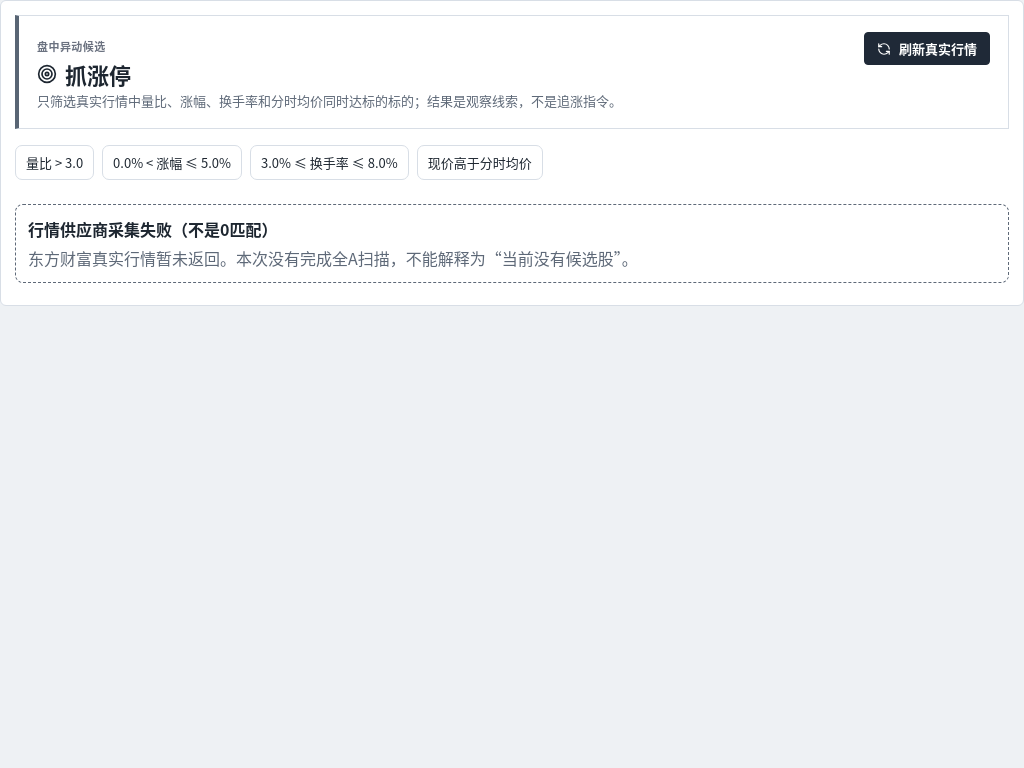
Test: 抓涨停 › 初载只GET缓存、数值列可排序，显式刷新使用POST并区分数据缺口与零匹配
This screenshot has width=1024, height=768.
Expected: the text "行情供应商采集失败（不是0匹配）" is shown, [28,216,278,240]
Click the button "刷新真实行情".
click(927, 48)  # box [864,32,990,65]
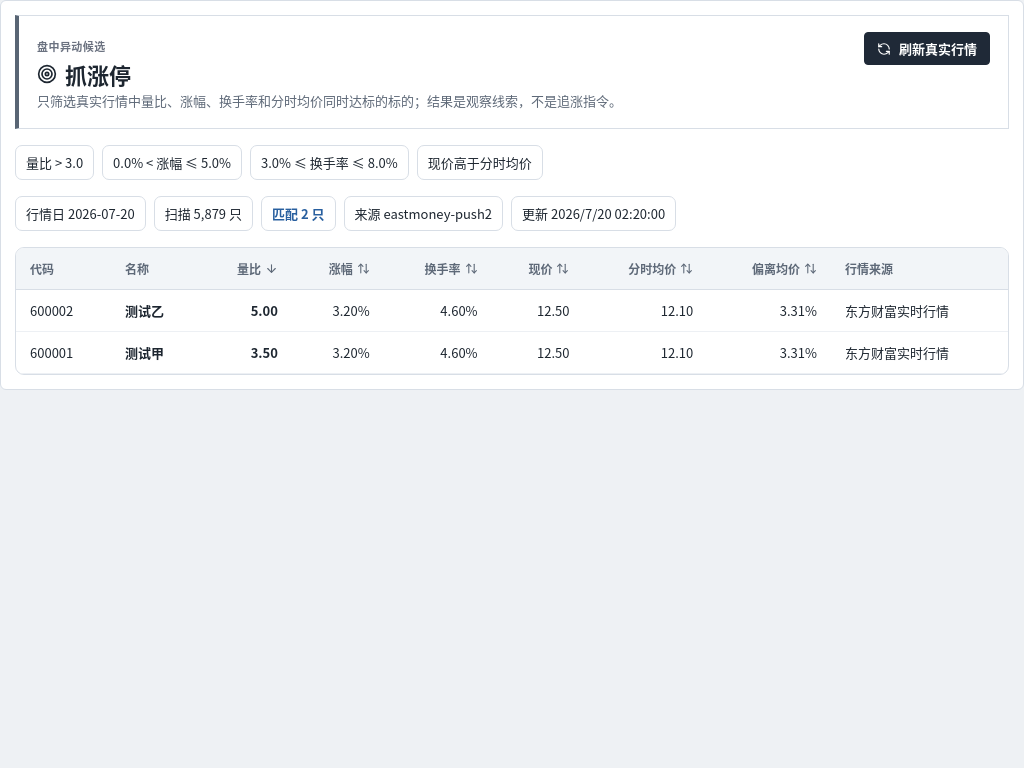
Expected: the text "测试乙" is shown, [125,300,164,320]
Click the button with aria-label "按量比升序排列".
click(246, 268)  # box [214,260,278,276]
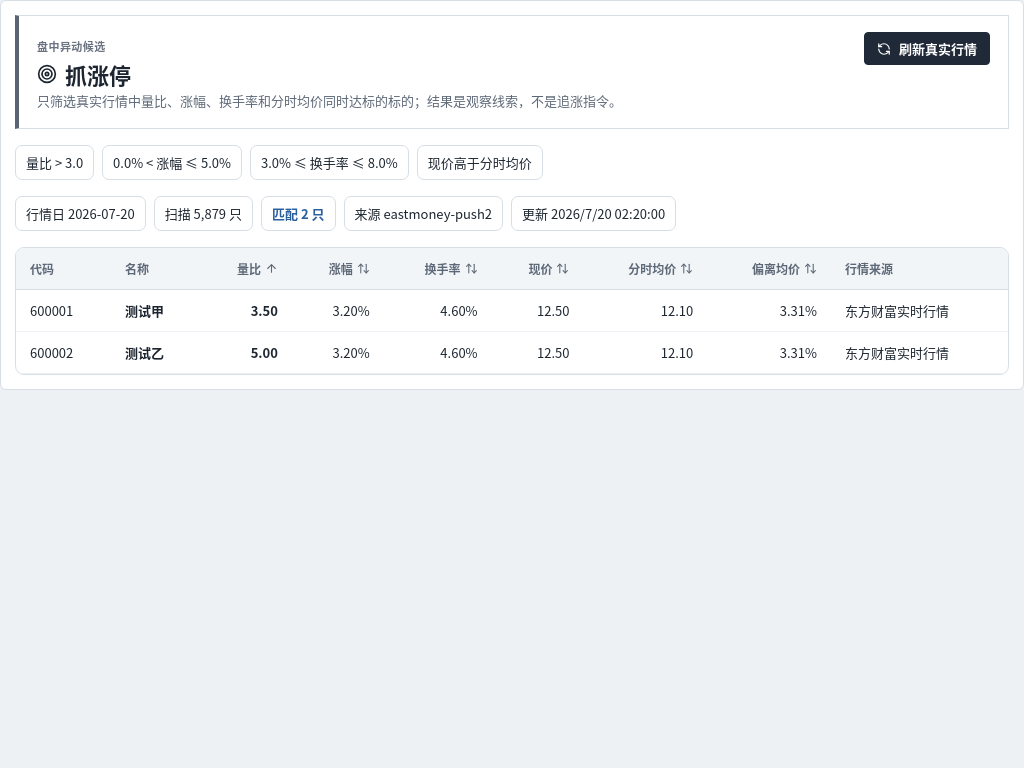
Expected: the text "测试甲" is shown, [125,300,164,320]
Click the button with aria-label "按量比降序排列".
click(246, 268)  # box [214,260,278,276]
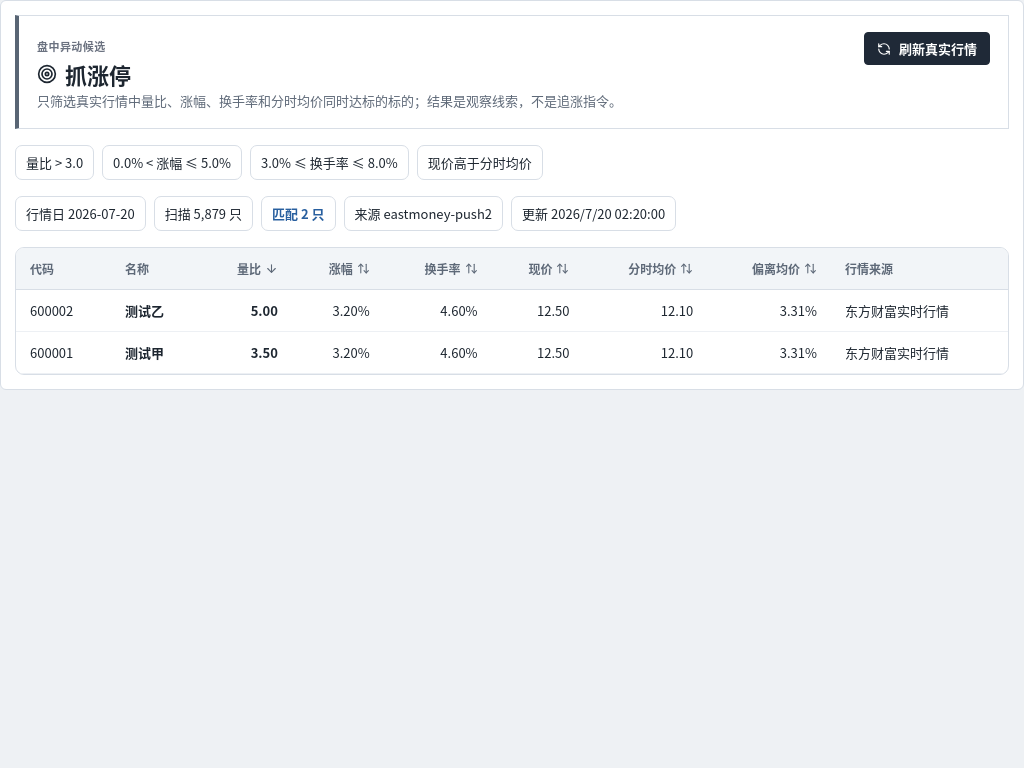
Expected: the text "测试乙" is shown, [125,300,164,320]
Click the button "刷新真实行情".
click(927, 48)  # box [864,32,990,65]
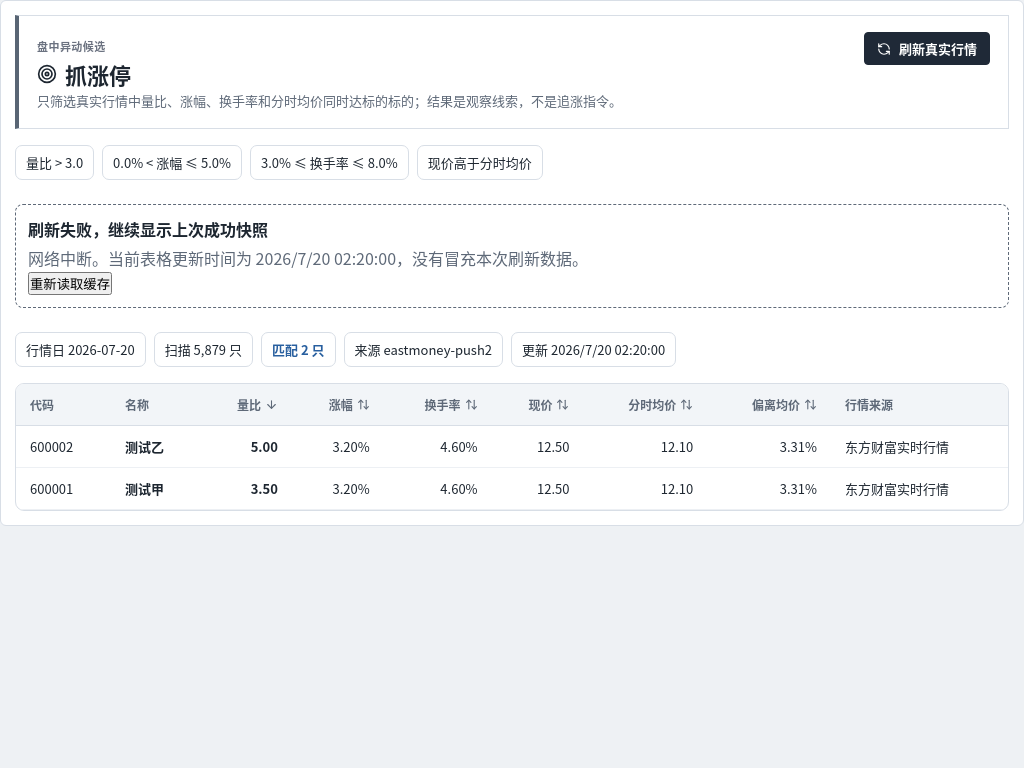
Expected: the text "测试乙" is shown, [125,437,164,456]
Expected: the text "刷新失败，继续显示上次成功快照" is shown, [28,216,268,240]
Click the button "刷新真实行情".
click(927, 48)  # box [864,32,990,65]
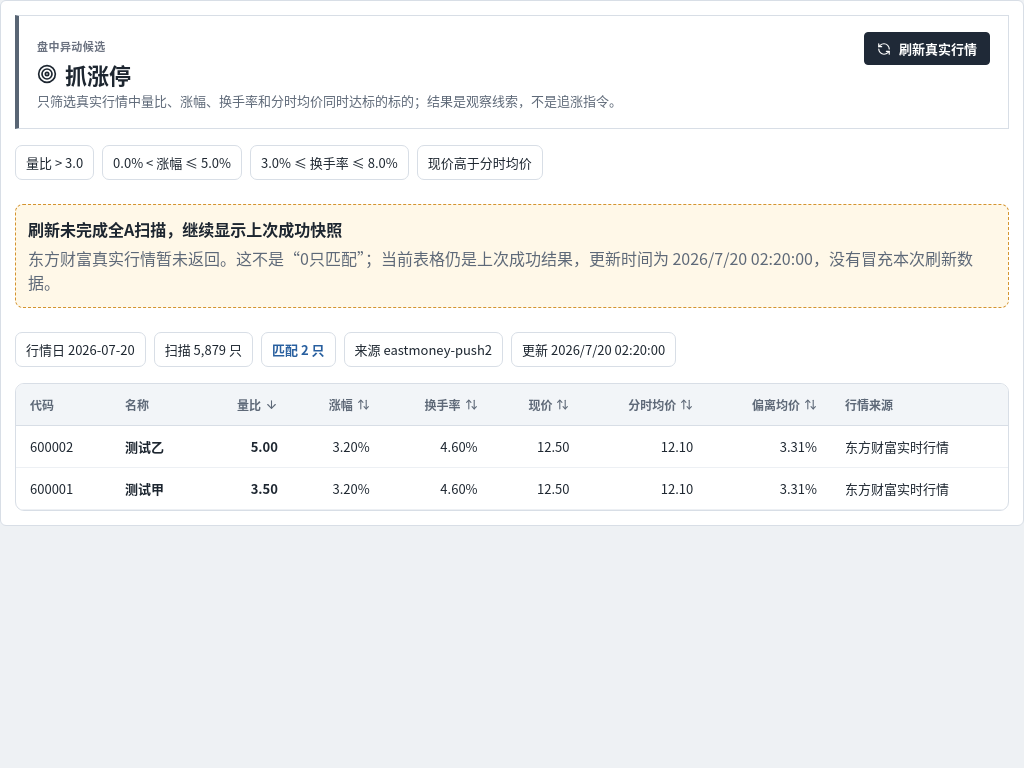
Expected: the text "更新时间为" is shown, [236,246,672,270]
Expected: the text "测试乙" is shown, [125,437,164,456]
Expected: the text "刷新未完成全A扫描，继续显示上次成功快照" is shown, [28,216,342,240]
Click the button "刷新真实行情".
click(927, 48)  # box [864,32,990,65]
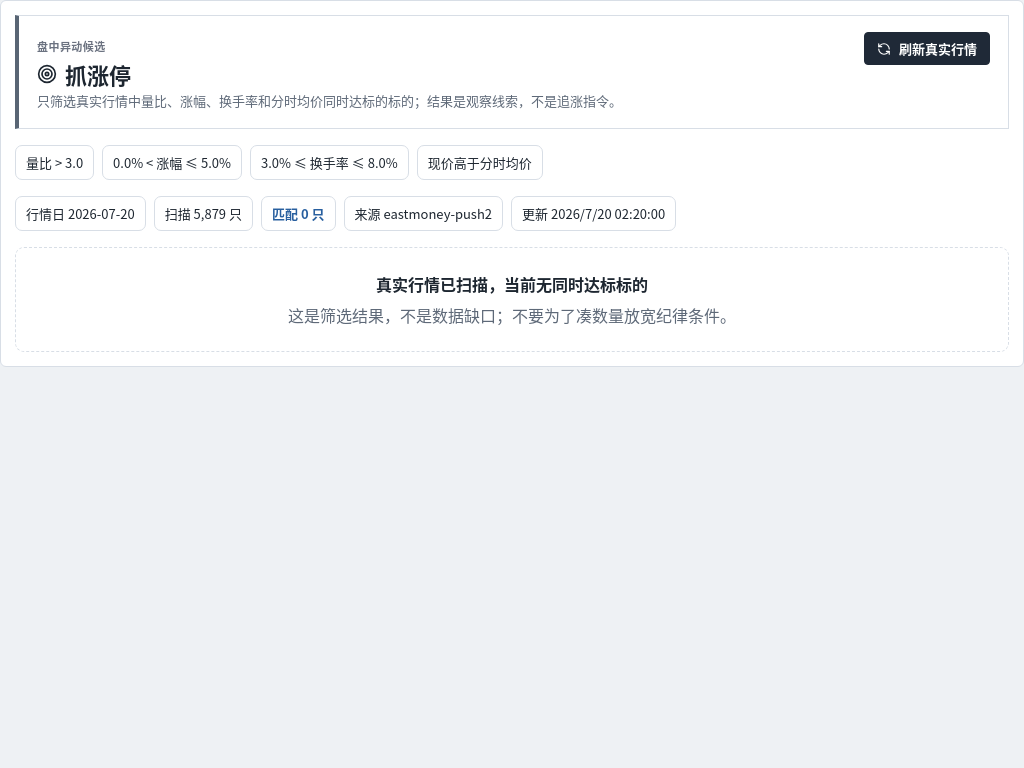
Expected: the text "真实行情已扫描，当前无同时达标标的" is shown, [376,272,648,296]
Expected: the text "刷新未完成全A扫描，继续显示上次成功快照" is gone
